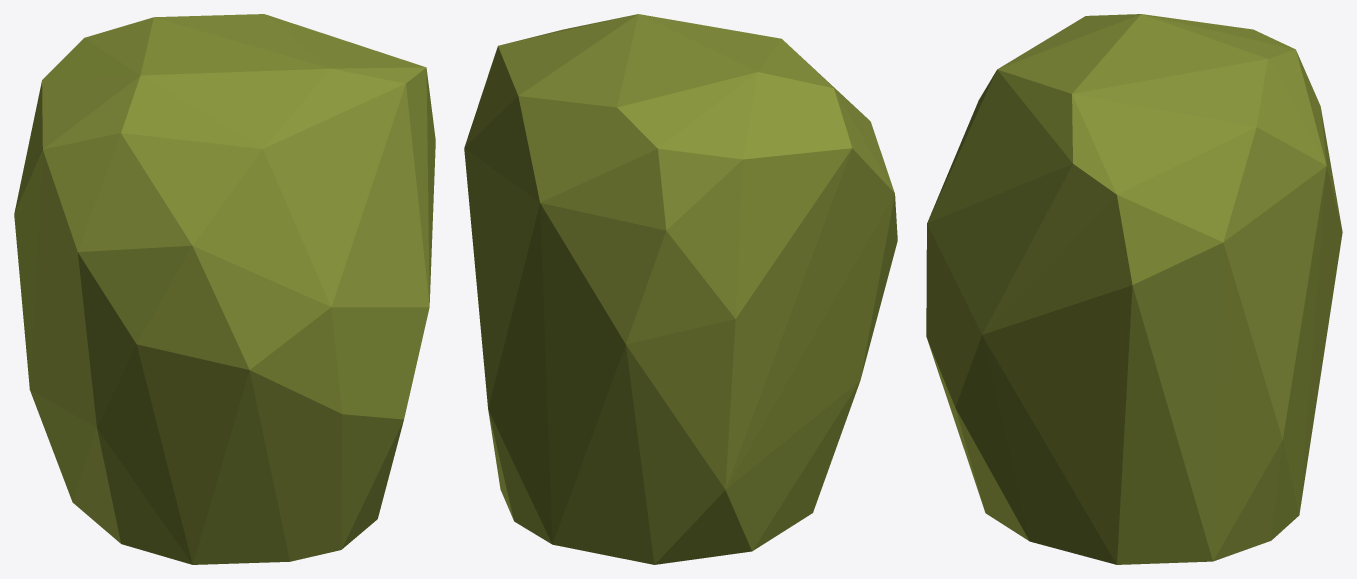
File: ea_swamp_grass_02e_pre__22__lev1.glb
3 views of the same model, side by side, from view 1: azimuth 30°, elevation 25°; view 2: azimuth 150°, elevation 25°; view 3: azimuth 270°, elevation 25° (orthographic).
Visible parts, largest first — view 1: ea_swamp_grass_02e_pre__22__lev1; view 2: ea_swamp_grass_02e_pre__22__lev1; view 3: ea_swamp_grass_02e_pre__22__lev1.
Part boxes in pixels (bbox=[...]): ea_swamp_grass_02e_pre__22__lev1: bbox=[14, 14, 435, 564]; ea_swamp_grass_02e_pre__22__lev1: bbox=[464, 14, 897, 564]; ea_swamp_grass_02e_pre__22__lev1: bbox=[926, 14, 1342, 564].
Bounding box in the file's own units: 1.95 × 2.13 × 1.82.
Materials: 1 (1 with a texture image).
